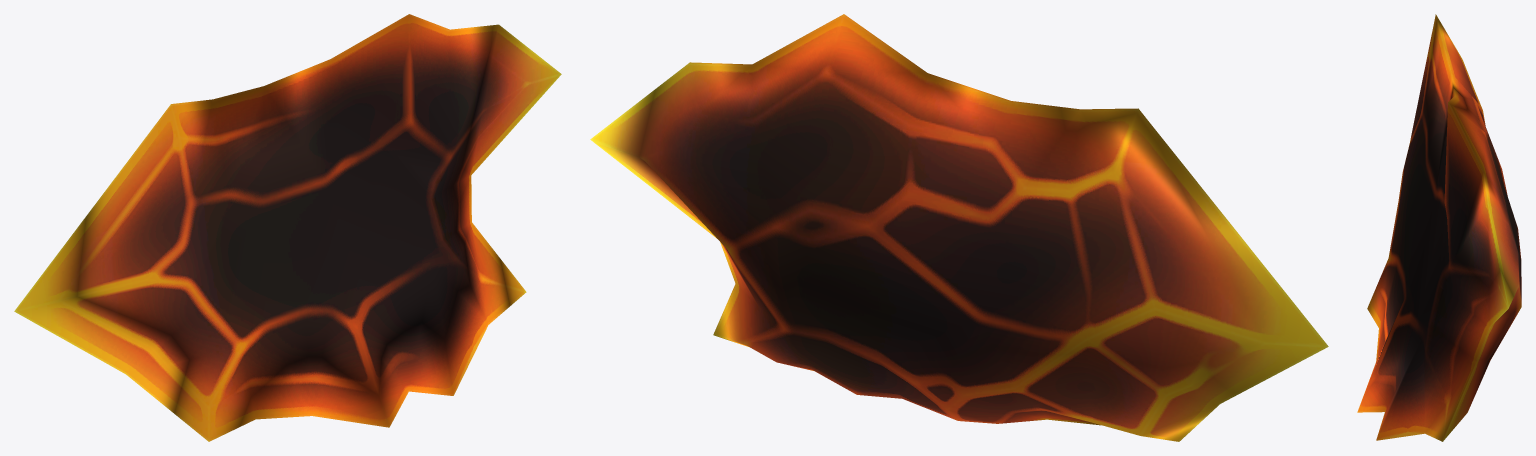
The model's file is item_weashimgm2501.glb.
The picture shows the model from 3 angles, left to right: view 1: azimuth 30°, elevation 25°; view 2: azimuth 150°, elevation 25°; view 3: azimuth 270°, elevation 25°; orthographic projection. The views are drawn at different scales.
Visible parts, largest first — view 1: FlyffMesh; view 2: FlyffMesh; view 3: FlyffMesh.
Part boxes in pixels (<box>): FlyffMesh: <box>14,14,561,441</box>; FlyffMesh: <box>590,14,1328,441</box>; FlyffMesh: <box>1357,14,1521,441</box>.
Bounding box in the file's own units: 0.9364 × 0.5498 × 0.24.
Materials: 1 (1 with a texture image).
